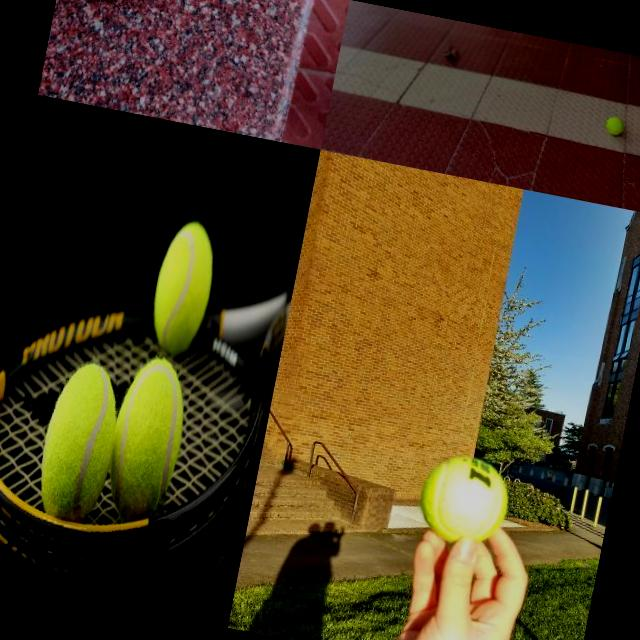tennis-ball: (100, 351, 196, 524), (30, 358, 126, 521), (142, 217, 222, 358), (411, 448, 516, 552), (605, 115, 625, 136)
